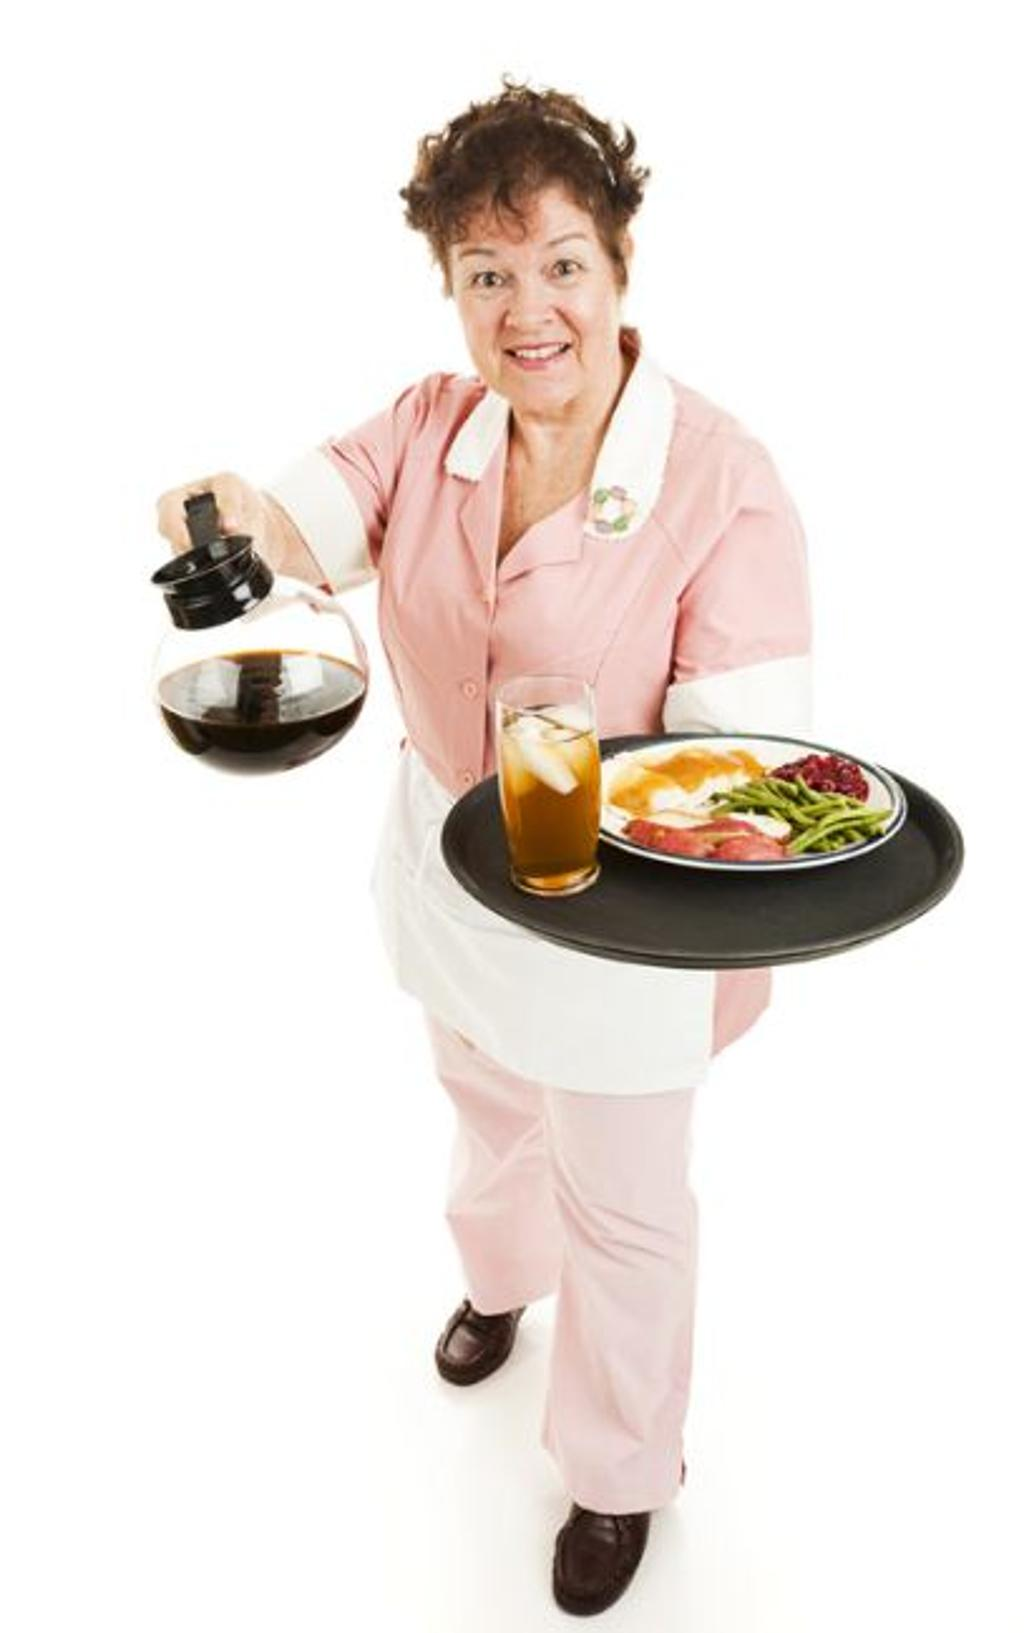face: (450, 188, 613, 405)
